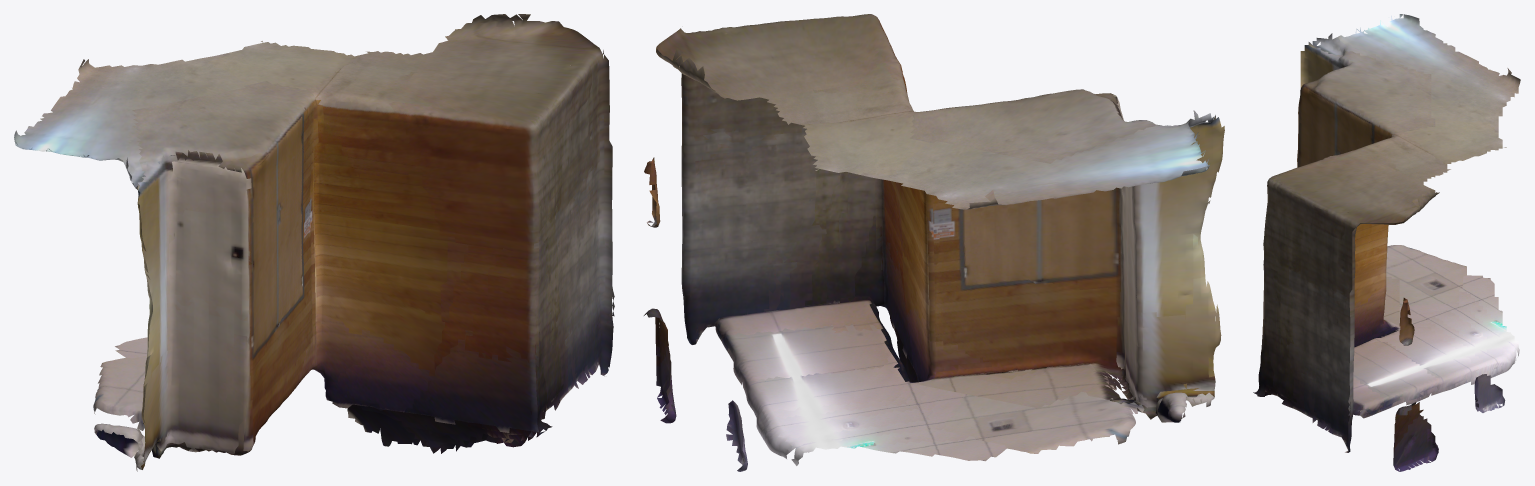
The model's file is Disc3.obj.
3 renders of one model, left to right at view 1: azimuth 30°, elevation 25°; view 2: azimuth 150°, elevation 25°; view 3: azimuth 270°, elevation 25°, orthographic. The views are drawn at different scales.
Bounding box in the file's own units: 8.2 × 5.21 × 4.69.
1 material, 1 textured.
